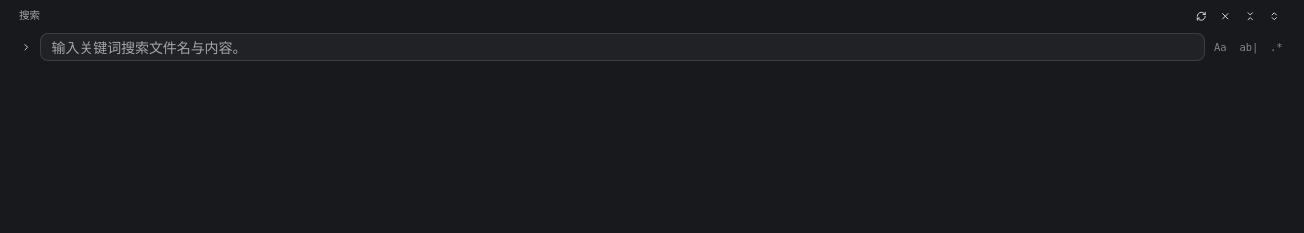
Scenario: stats bar & toolbar › counts results and files
The width and height of the screenshot is (1304, 233).
Type "foo" into the field labelled "搜索" at (622, 47), box [40, 33, 1204, 61]
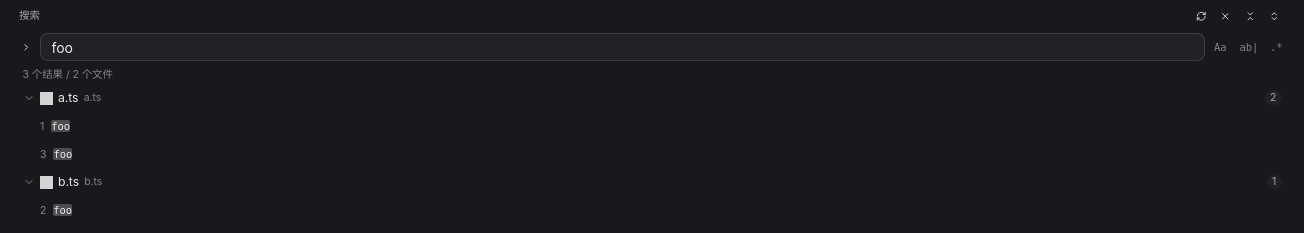
Expected: the text "3 个结果 / 2 个文件" is shown, [22, 68, 113, 82]
